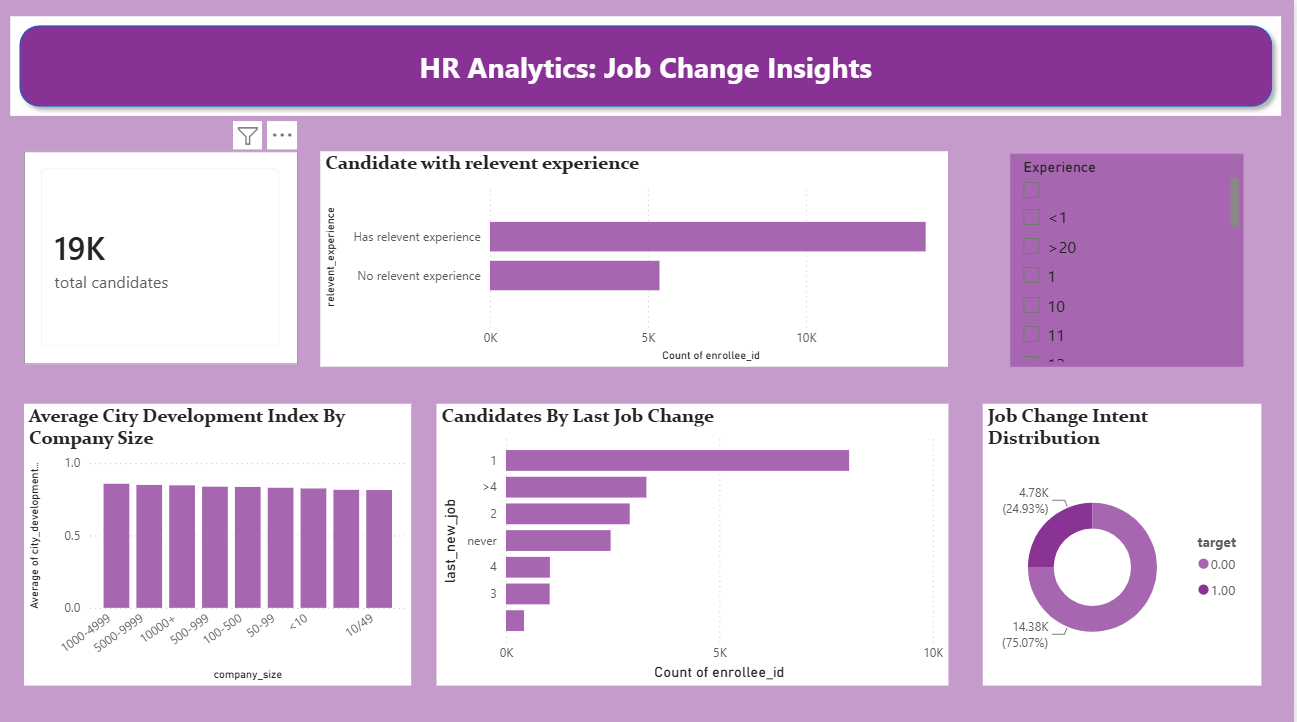

This screenshot's page, from the dashboard's own definition file:
{"tool":"powerbi","page":{"name":"Page 1","canvas":[1280,720],"ordinal":0},"visuals":[{"type":"cardVisual","fields":{"Data":["aug_train.total candidates"]},"box":[25,150,269.6,210.7],"z":0},{"type":"clusteredBarChart","title":"Candidate with relevent experience ","fields":{"Y":["CountNonNull(aug_train.enrollee_id)"],"Category":["aug_train.relevent_experience"]},"box":[317.9,150,619.6,212.5],"z":1},{"type":"clusteredColumnChart","title":"Average City Development Index By Company Size","fields":{"Category":["aug_train.company_size"],"Y":["Avg(aug_train.city_development_index)"]},"box":[25,398.2,382.1,278.6],"z":2},{"type":"clusteredBarChart","title":"Candidates By Last Job Change","fields":{"Category":["aug_train.last_new_job"],"Y":["CountNonNull(aug_train.enrollee_id)"]},"box":[432.1,398.2,505.4,278.6],"z":3},{"type":"slicer","fields":{"Values":["aug_train.experience"]},"box":[998.2,151.8,230.4,210.7],"z":4},{"type":"shape","box":[10.7,16.1,1255.4,98.2],"z":5},{"type":"donutChart","title":"Job Change Intent Distribution","fields":{"Category":["aug_train.target"],"Y":["CountNonNull(aug_train.enrollee_id)"]},"box":[971.4,398.2,275,278.6],"z":6}]}

Visuals, with their boxes in screenshot pixels (x1, y1, x2, y2), scaled from the page's 1280x720 canvas onto the 1297x722 screenshot:
cardVisual - aug_train.total candidates: locate(25, 150, 299, 362)
"Candidate with relevent experience " clusteredBarChart: locate(322, 150, 950, 364)
"Average City Development Index By Company Size" clusteredColumnChart: locate(25, 399, 413, 679)
"Candidates By Last Job Change" clusteredBarChart: locate(438, 399, 950, 679)
slicer - aug_train.experience: locate(1011, 152, 1245, 364)
shape: locate(11, 16, 1283, 115)
"Job Change Intent Distribution" donutChart: locate(984, 399, 1263, 679)
